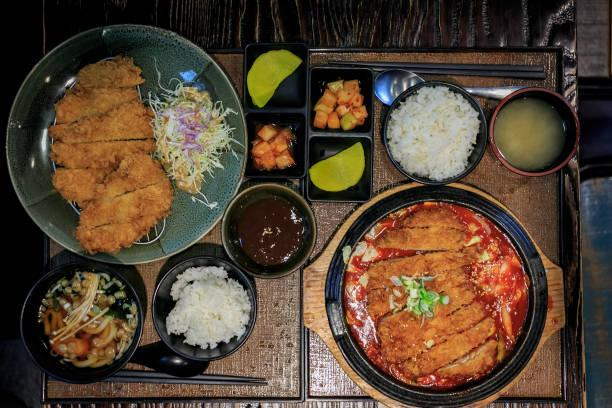Braised Crucian Carp: (6, 23, 242, 264), (319, 181, 551, 404), (19, 262, 142, 383)
